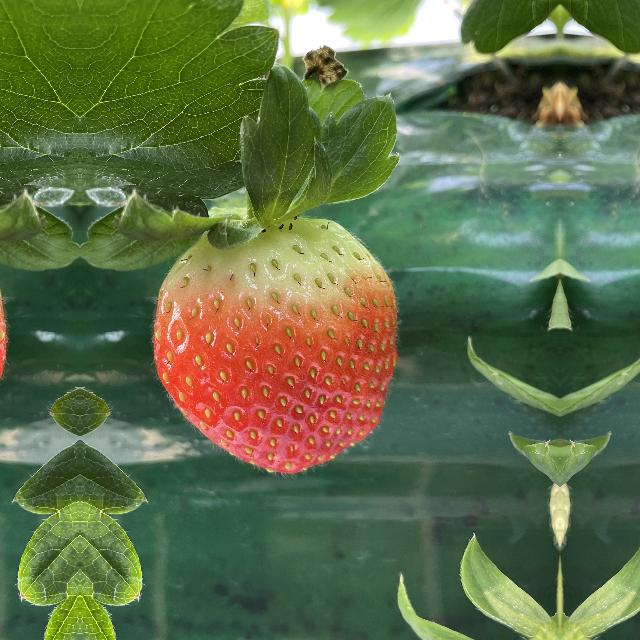Health_100: (151, 205, 415, 477)
